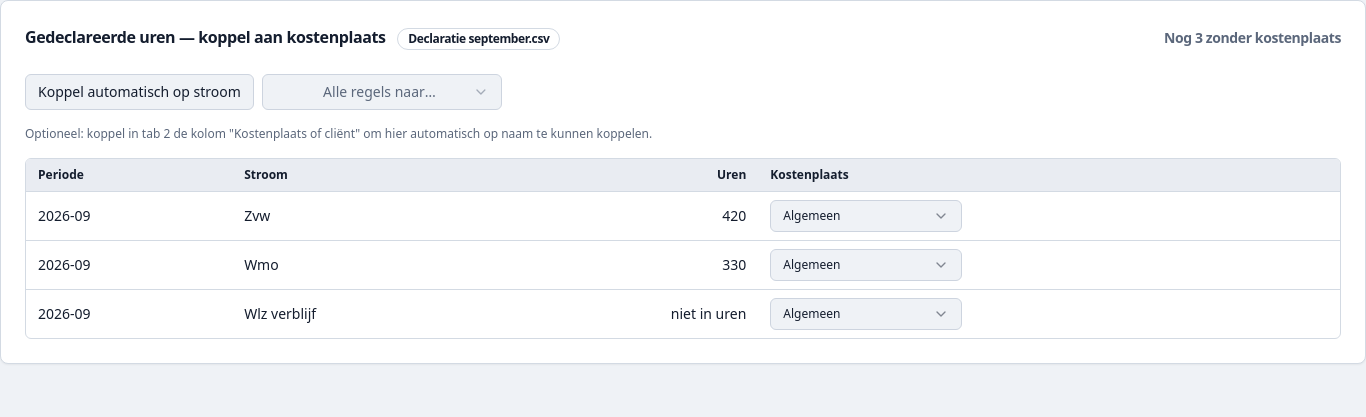
Test: ToewijzingPaneel (fictief dossier) › koppelt met één klik op stroom en slaat dat op
Step 1. Click the button "Koppel automatisch op stroom" → (139, 92), box [25,74,254,110]
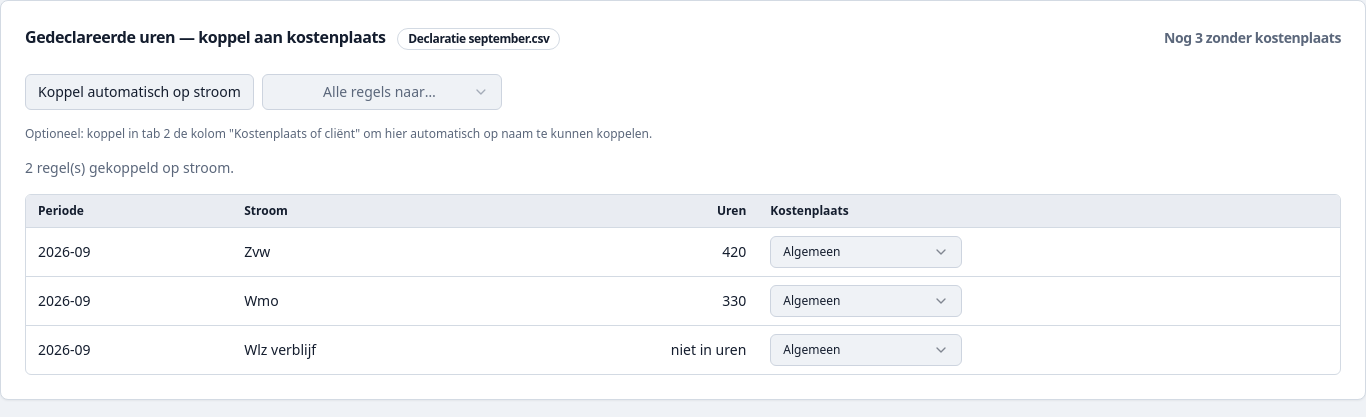
Check: the message "2 regel(s) gekoppeld op stroom." is shown, box [25,158,234,177]
